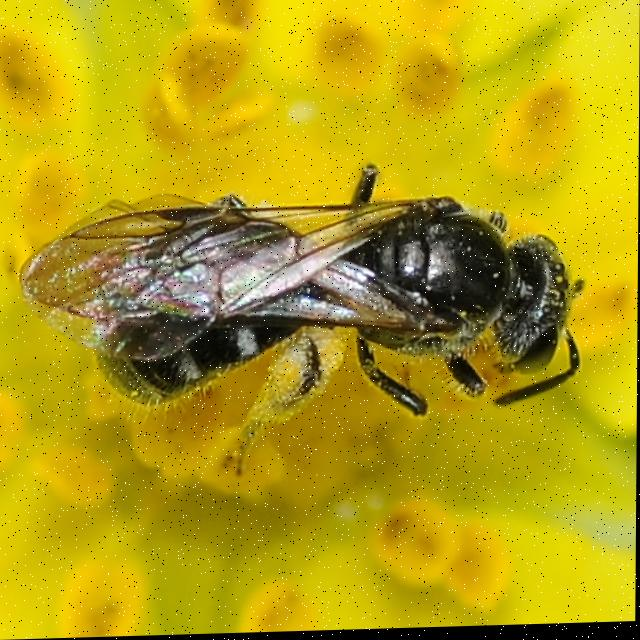Lasioglossum: (16, 158, 605, 489)
